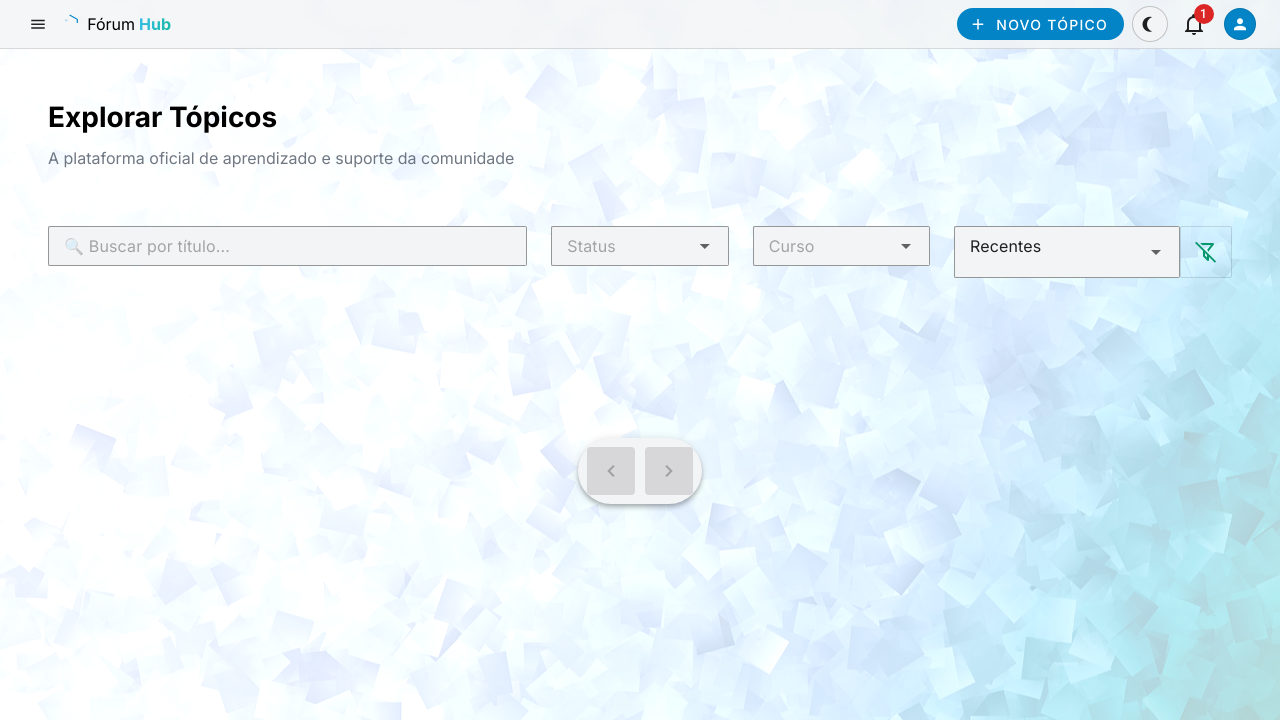
it: Notification System › should open notification menu and show content
Click the button with test id "notification-bell": point(1194, 24) [1176,4,1212,44]
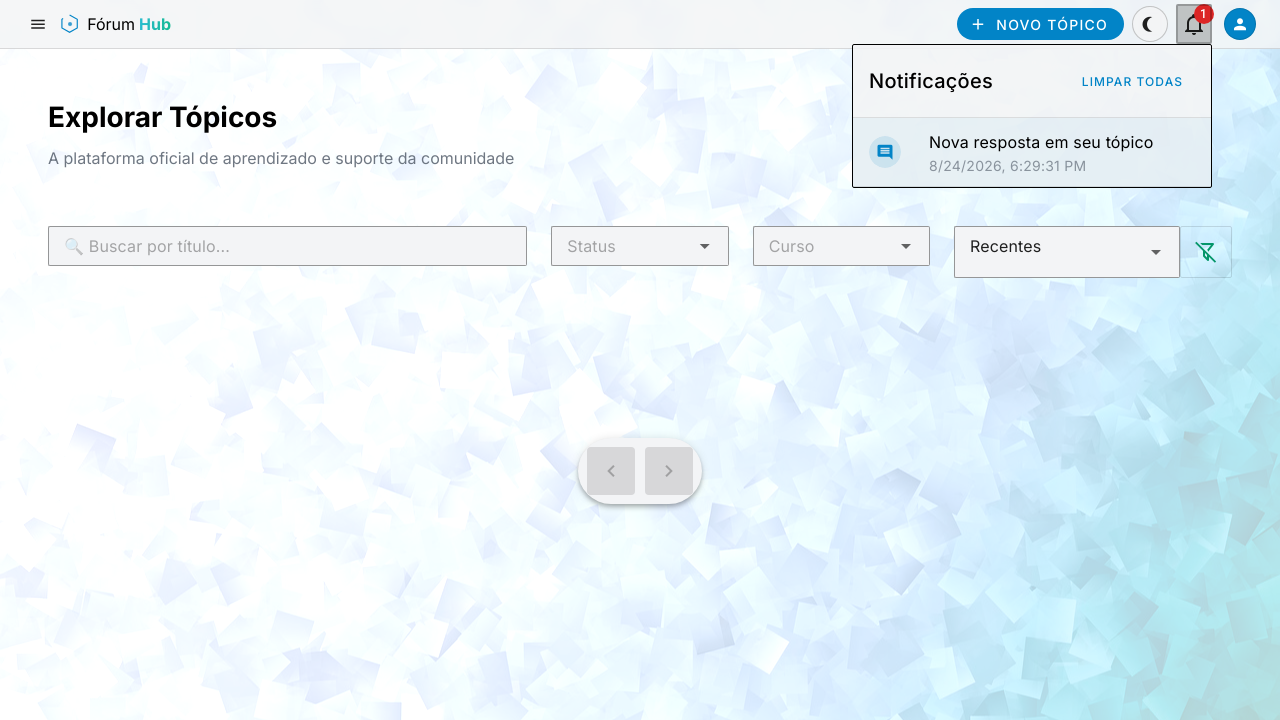
Check: the text "Notificações" is shown, box [869,65,993,97]
Check: the text "Nova resposta em seu tópico" is shown, box [929,132,1154,152]
